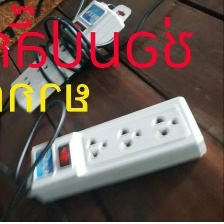three_eye_plug: (25, 92, 213, 209), (6, 0, 134, 116)
